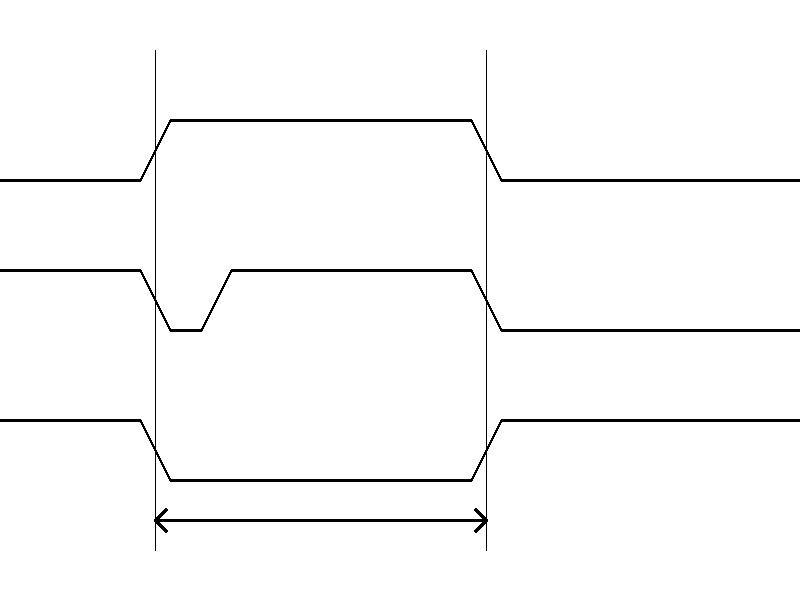double_arrow: (155, 505, 486, 535)
